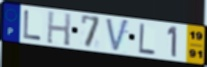1: (166, 26, 179, 59)
7: (80, 14, 102, 50)
H: (46, 10, 73, 48)
L: (22, 9, 43, 42), (138, 22, 157, 57)
V: (104, 17, 130, 54)
